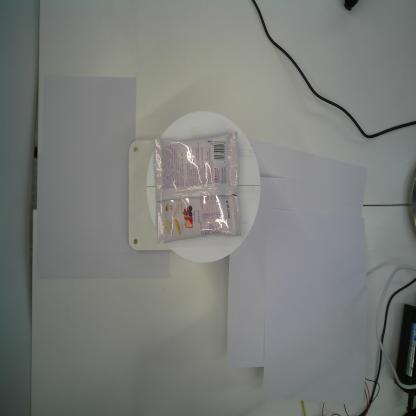Instant Drink: (153, 131, 242, 244)
